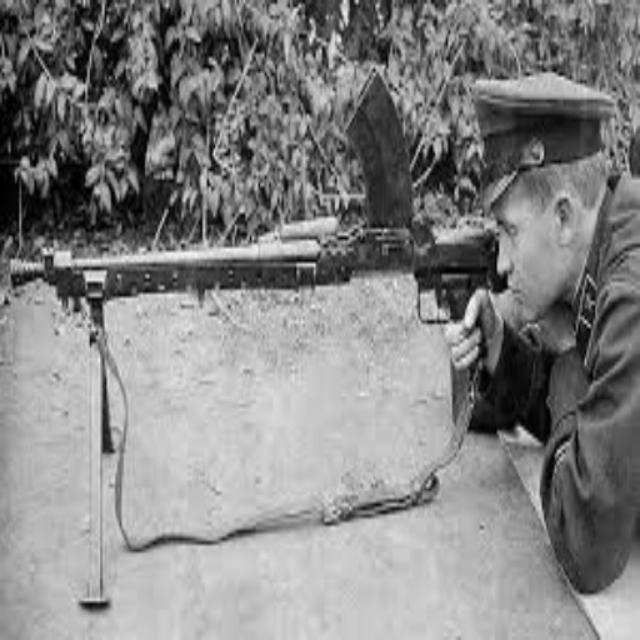other: (433, 64, 639, 582)
